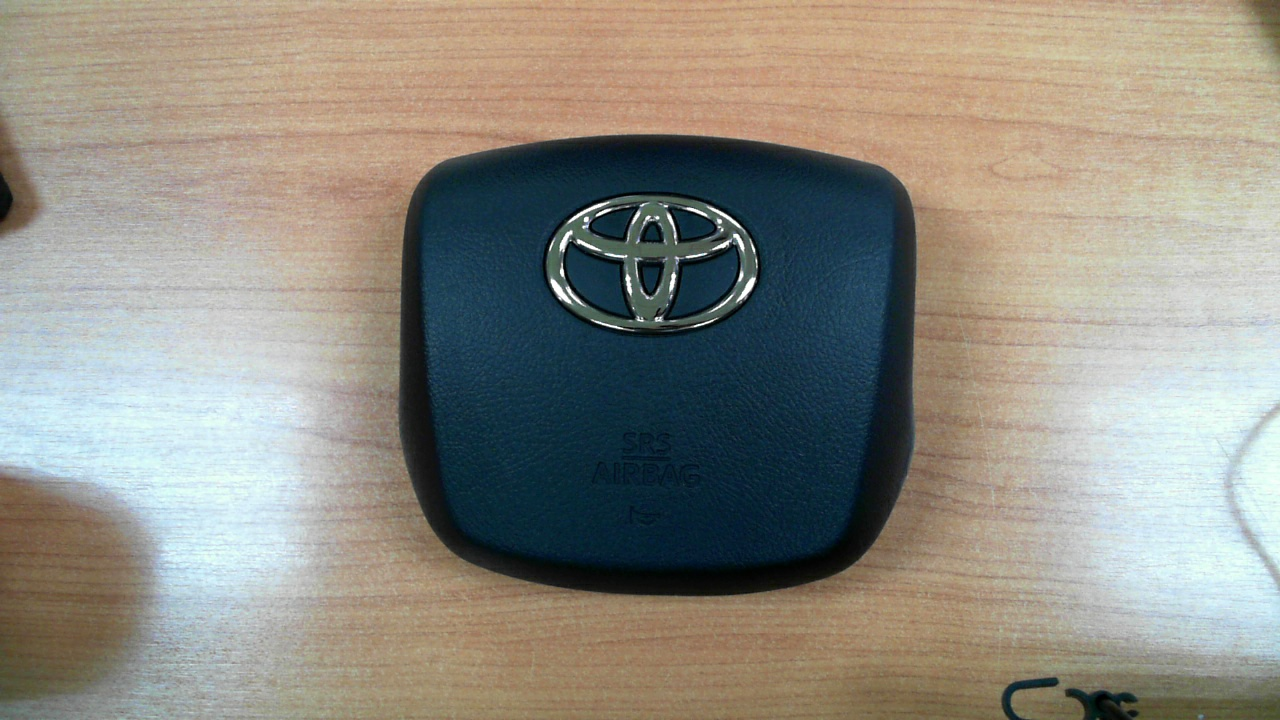Airbag: (363, 93, 951, 626)
